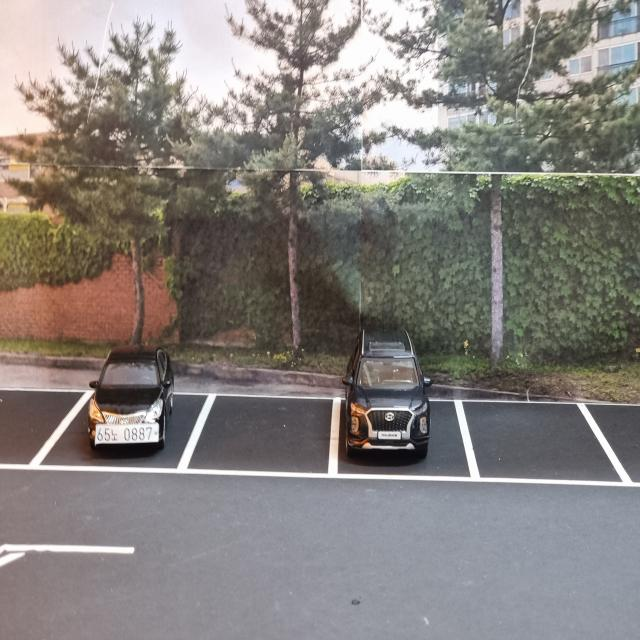empty: (451, 396, 640, 489), (192, 383, 340, 485), (0, 379, 84, 476)
occupied: (342, 328, 435, 456), (82, 346, 172, 452)
